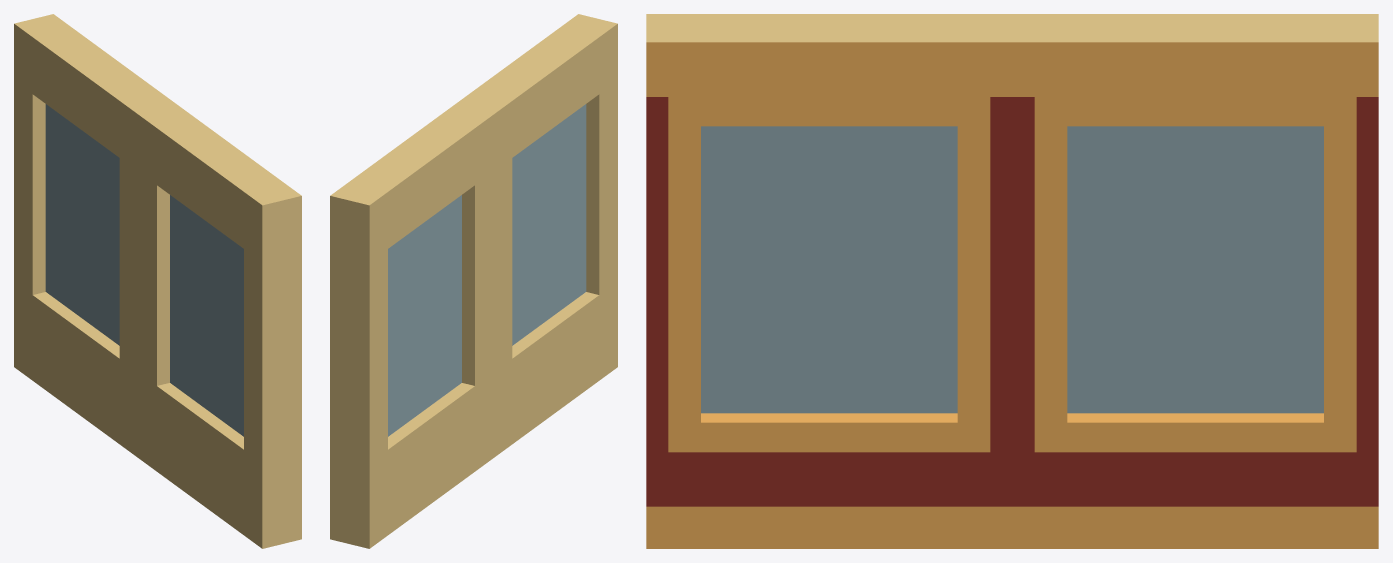
File: BureauJuge_Mur03.fbx
The picture shows the model from 3 angles, left to right: view 1: azimuth 30°, elevation 25°; view 2: azimuth 150°, elevation 25°; view 3: azimuth 270°, elevation 25°; orthographic projection. The views are drawn at different scales.
Visible parts, largest first — view 1: Mur03; view 2: Mur03; view 3: Mur03.
Boxes of the visible parts, x1,y1,x2,y2 form: Mur03: [14, 14, 301, 548]; Mur03: [330, 14, 617, 548]; Mur03: [646, 14, 1378, 548].
Size of the model in its own units: 0.7782 by 6.49 by 8.5.
